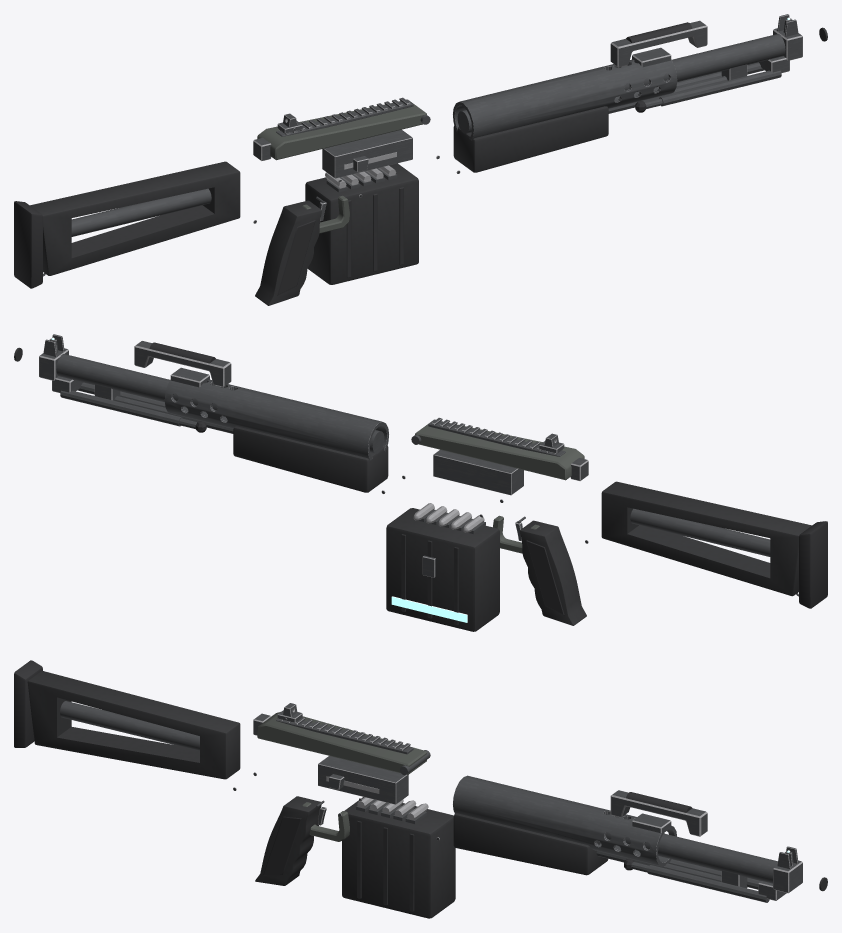
Rendered from w_lmg.glb.
3 renders of one model, top to bottom at view 1: azimuth 30°, elevation 25°; view 2: azimuth 150°, elevation 25°; view 3: azimuth 330°, elevation 25°, orthographic.
Visible parts, largest first — view 1: W_lmg; view 2: W_lmg; view 3: W_lmg.
Boxes of the visible parts, x1,y1,x2,y2 form: W_lmg: [14, 14, 827, 305]; W_lmg: [14, 334, 827, 631]; W_lmg: [14, 660, 827, 918].
Size of the model in its own units: 1.07 by 0.2355 by 0.109.
Materials: 6 (3 with a texture image).
